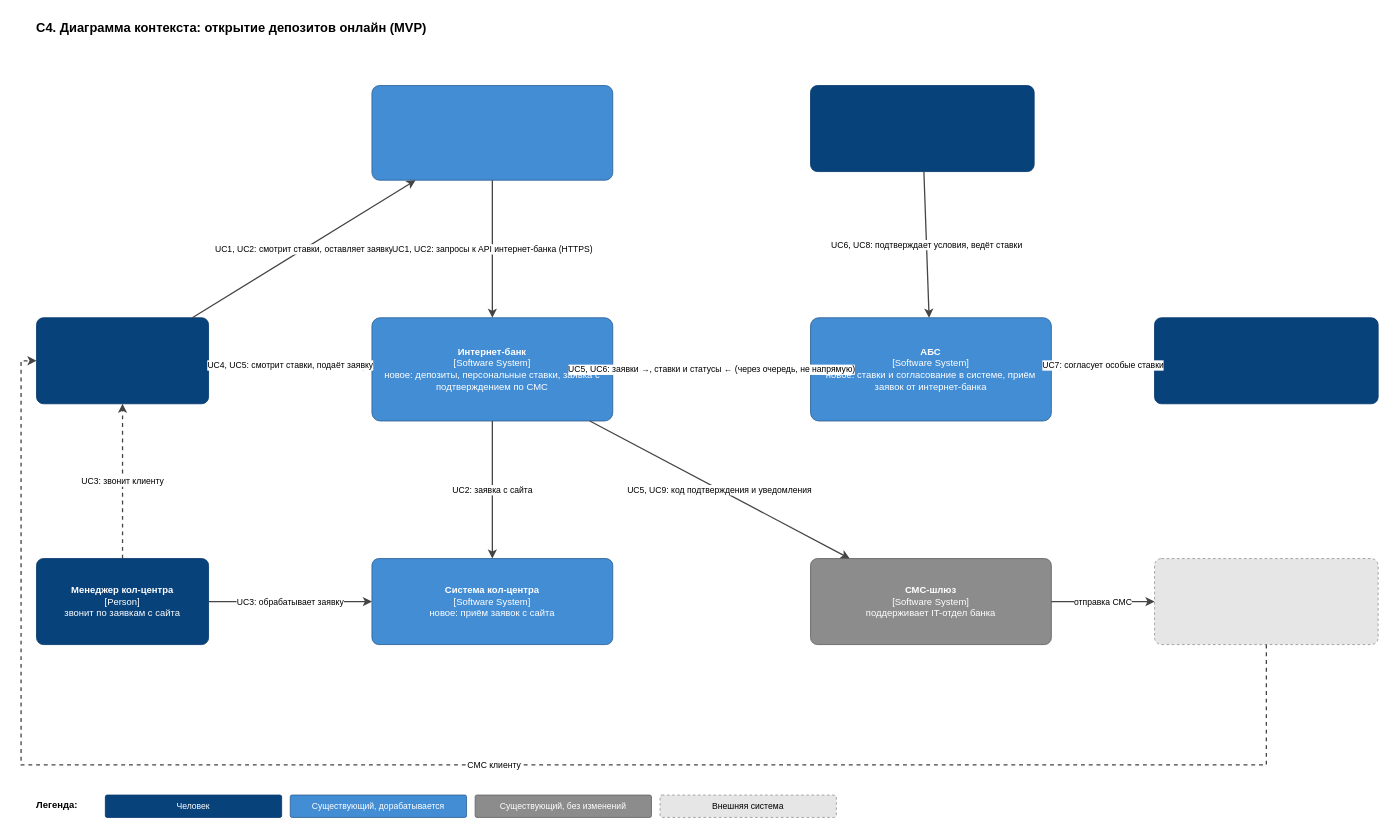
Some shapes in this 1394 by 832 pixel diagram are drawn without their labels. Each missing label, with the centre of its shape:
Клиент [Person] новый или существующий клиент банка: the point at 122,360
Менеджер бэк-офиса депозитов [Person] обрабатывает заявки, ведёт ставки: the point at 922,128
Сайт банка [Software System] новое: список депозитов со ставками и форма заявки: the point at 492,132
Сотрудник отдела кредитования [Person] согласует особые ставки: the point at 1266,360
Телеком-оператор [External System] отправка СМС клиентам: the point at 1266,601
